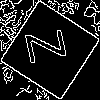Z: (25, 25, 76, 65)
